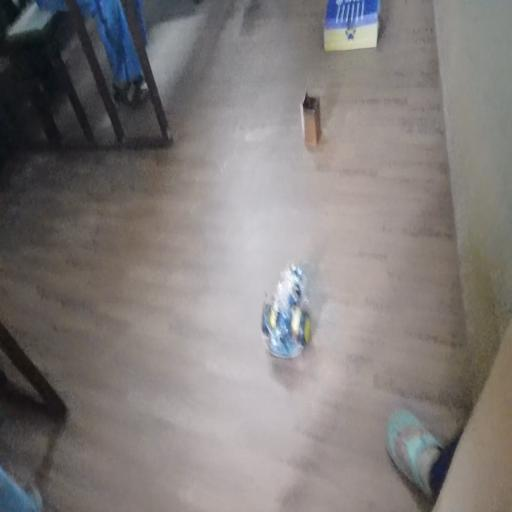car: (252, 274, 349, 397)
